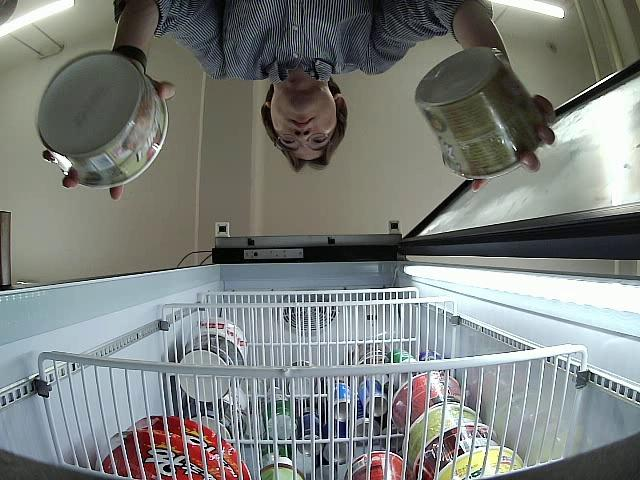00_hand: (39, 78, 177, 204), (467, 92, 557, 190)
03_chapagetti_L: (38, 56, 167, 191), (419, 45, 540, 178)
